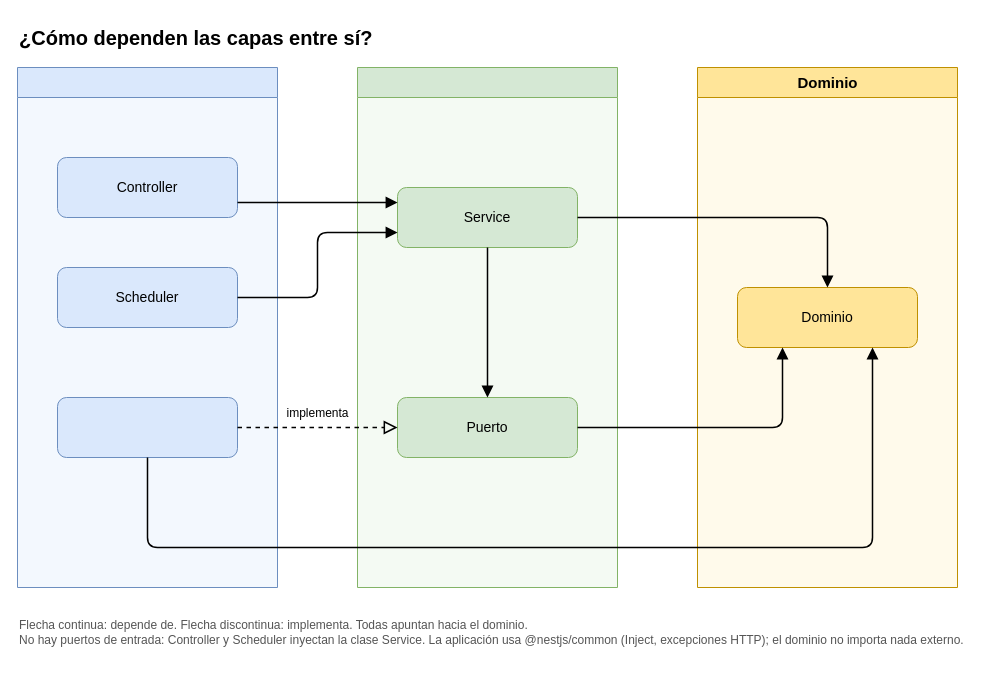
The diagram is 982 pixels wide and 674 high, and some of its shapes have lost their labels. Here are the shapes that lost their labels. From the top down, the box of each, then its label:
(16, 66, 278, 588): Infraestructura
(356, 66, 618, 588): Aplicación
(56, 396, 238, 458): Adaptador TypeORM
